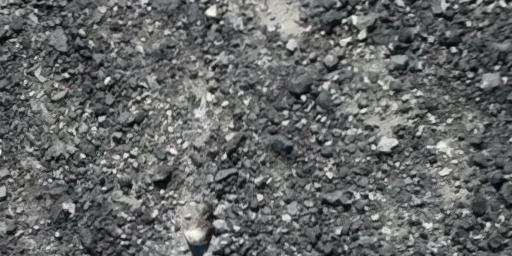skua: (181, 202, 217, 256)
